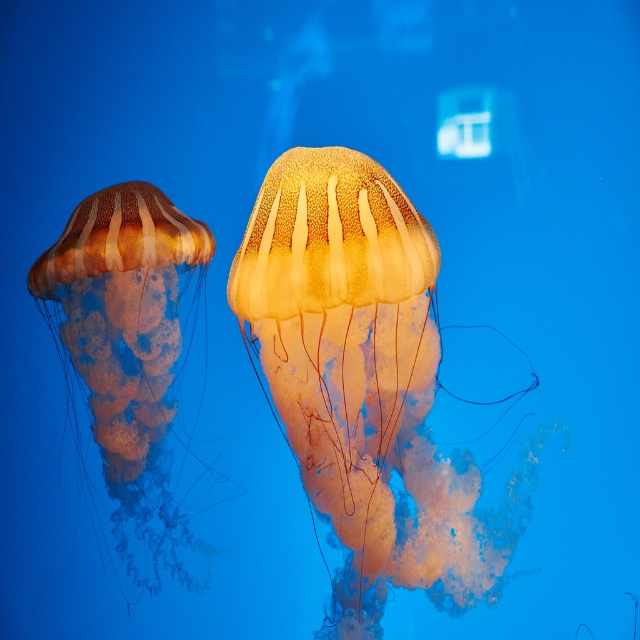Jellyfish: (225, 148, 566, 639), (25, 181, 266, 619)
